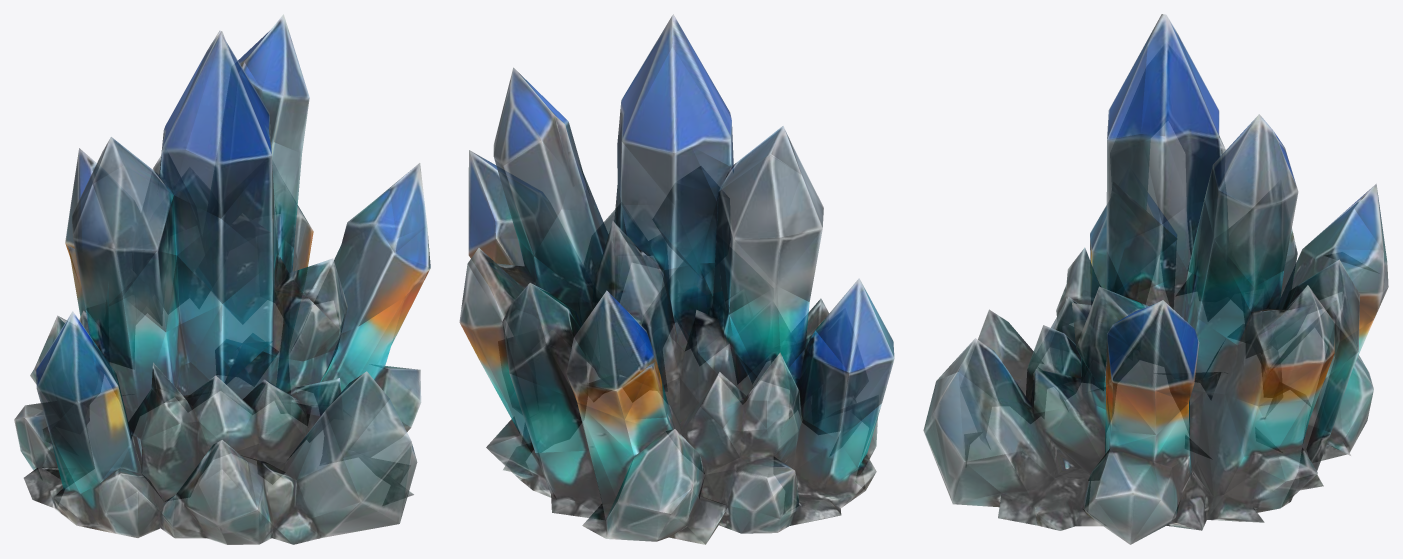
Rendered from item-3.glb.
3 views of the same model, side by side, from view 1: azimuth 30°, elevation 25°; view 2: azimuth 150°, elevation 25°; view 3: azimuth 270°, elevation 25° (orthographic). The views are drawn at different scales.
Parts seen in each view (by area): view 1: crystal; view 2: crystal; view 3: crystal.
Part boxes in pixels (<box>): crystal: <box>14,14,430,544</box>; crystal: <box>459,14,894,544</box>; crystal: <box>923,14,1388,544</box>.
Size of what is drawn, in the model's own units: 0.9518 by 1 by 0.9305.
1 material, 1 textured.
